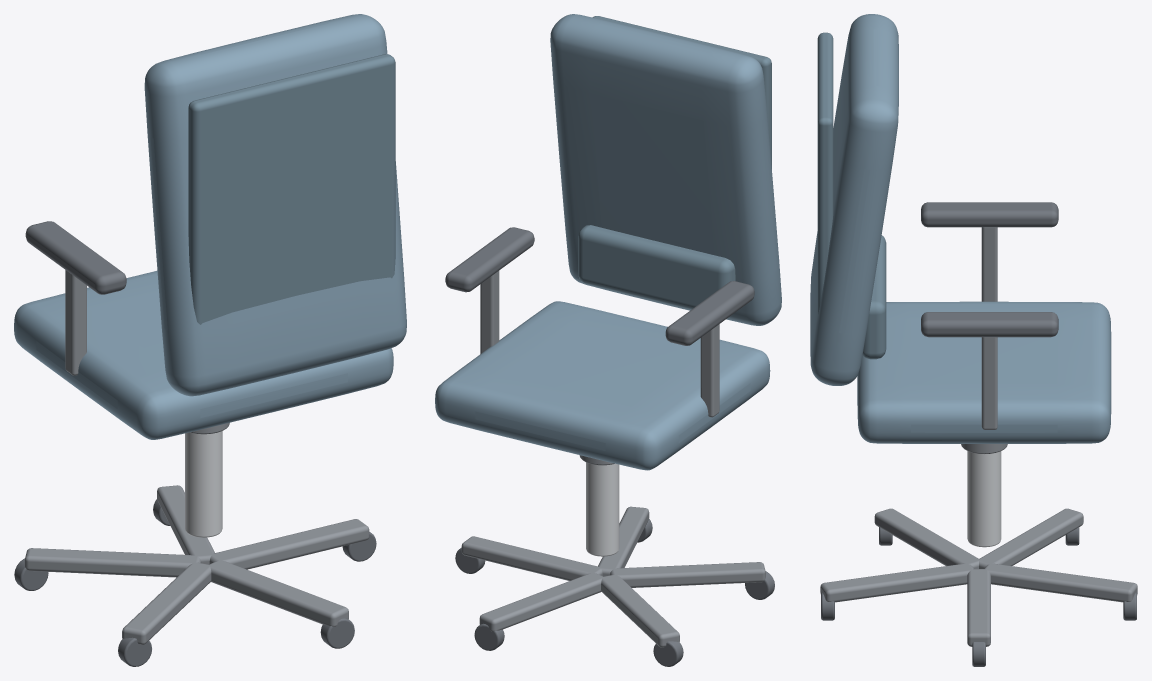
The model's file is ergonomic_chair.glb.
3 renders of one model, left to right at view 1: azimuth 30°, elevation 25°; view 2: azimuth 150°, elevation 25°; view 3: azimuth 270°, elevation 25°, orthographic. The views are drawn at different scales.
Parts seen in each view (by area): view 1: ChairBackFrame, ChairBack, ChairSeat, ChairColumn, ChairSpoke_2, ChairSpoke_0, ChairSpoke_4, ChairArmPad_-1, ChairSpoke_3, ChairArmPost_-1, ChairSpoke_1, ChairCaster_3 (+3 smaller); view 2: ChairBack, ChairSeat, ChairLumbar, ChairColumn, ChairSpoke_3, ChairSpoke_0, ChairSpoke_1, ChairArmPad_-1, ChairArmPad_1, ChairSpoke_2, ChairArmPost_-1, ChairSpoke_4 (+5 smaller); view 3: ChairSeat, ChairBack, ChairBackFrame, ChairArmPad_-1, ChairArmPad_1, ChairColumn, ChairSpoke_4, ChairSpoke_1, ChairSpoke_2, ChairSpoke_3, ChairLumbar, ChairSpoke_0 (+2 smaller).
Part boxes in pixels (x1,y1,x2,y2): ChairBackFrame: (188, 54, 395, 324); ChairBack: (144, 14, 406, 396); ChairSeat: (14, 271, 393, 439); ChairColumn: (185, 431, 222, 537); ChairSpoke_2: (24, 548, 201, 577); ChairSpoke_0: (209, 519, 369, 569); ChairSpoke_4: (209, 560, 348, 626); ChairArmPad_-1: (25, 221, 126, 294); ChairSpoke_3: (122, 562, 211, 644); ChairArmPost_-1: (65, 270, 86, 375); ChairSpoke_1: (157, 485, 214, 564); ChairCaster_3: (118, 637, 151, 666); ChairBack: (550, 14, 781, 325); ChairSeat: (435, 301, 770, 470); ChairLumbar: (578, 225, 735, 309); ChairColumn: (586, 462, 619, 556); ChairSpoke_3: (610, 562, 765, 587); ChairSpoke_0: (461, 536, 602, 580); ChairSpoke_1: (479, 573, 602, 631); ChairArmPad_-1: (665, 281, 754, 345); ChairArmPad_1: (445, 227, 534, 292); ChairSpoke_2: (601, 575, 679, 647); ChairArmPost_-1: (700, 324, 719, 417); ChairSpoke_4: (598, 506, 649, 576); ChairSeat: (857, 301, 1111, 443); ChairBack: (810, 14, 898, 385); ChairBackFrame: (817, 32, 833, 314); ChairArmPad_-1: (921, 202, 1058, 227); ChairArmPad_1: (921, 312, 1058, 337); ChairColumn: (967, 451, 1001, 547); ChairSpoke_4: (820, 563, 973, 602); ChairSpoke_1: (984, 563, 1137, 602); ChairSpoke_2: (979, 508, 1083, 568); ChairSpoke_3: (874, 508, 978, 568); ChairLumbar: (862, 235, 886, 359); ChairSpoke_0: (967, 569, 990, 646).
Size of the model in its own units: 0.603 by 1.13 by 0.6185.
